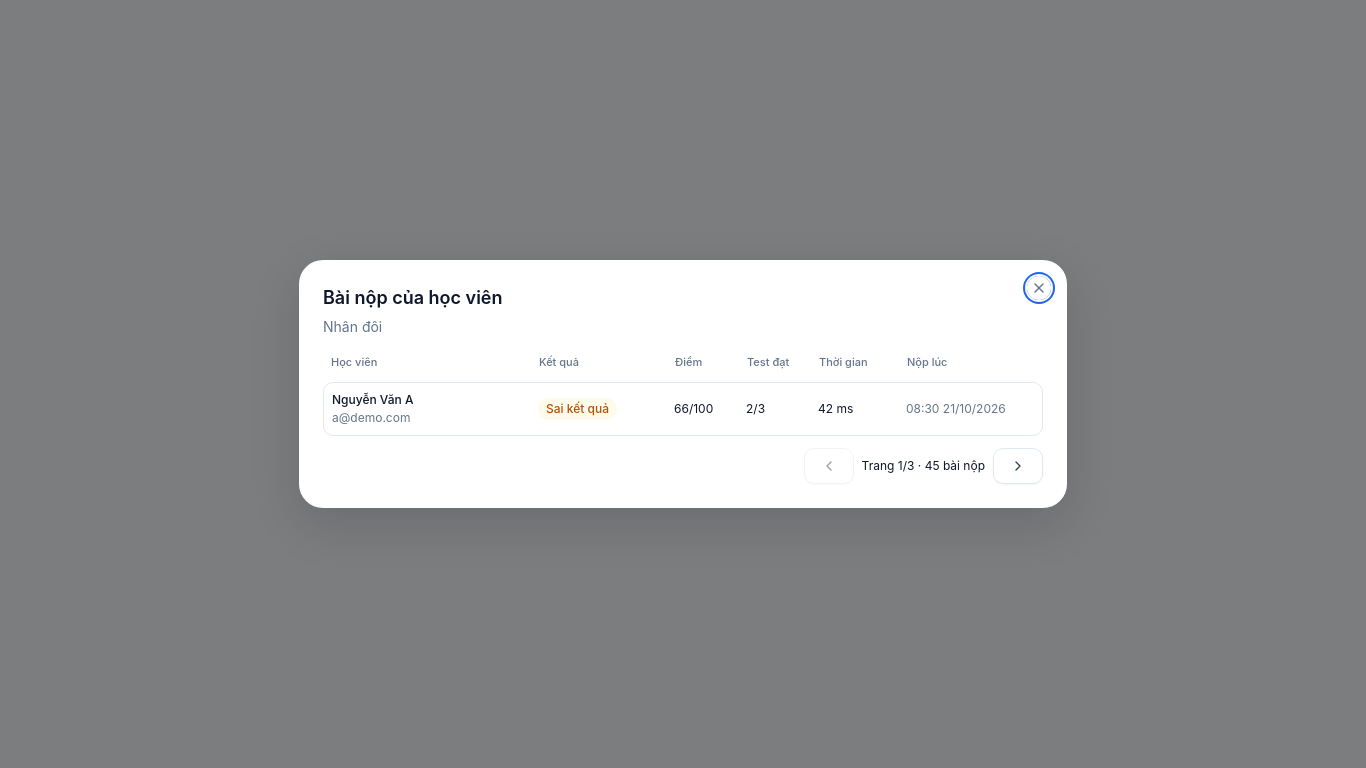
Test: ExerciseSubmissionsPanel › nhiều trang -> sang trang sau gọi page=2
Expected: the text "Trang 1/3 · 45 bài nộp" is shown, [862,457,985,475]
Click the button named "Trang sau".
click(1018, 466)  # box [993,448,1043,484]
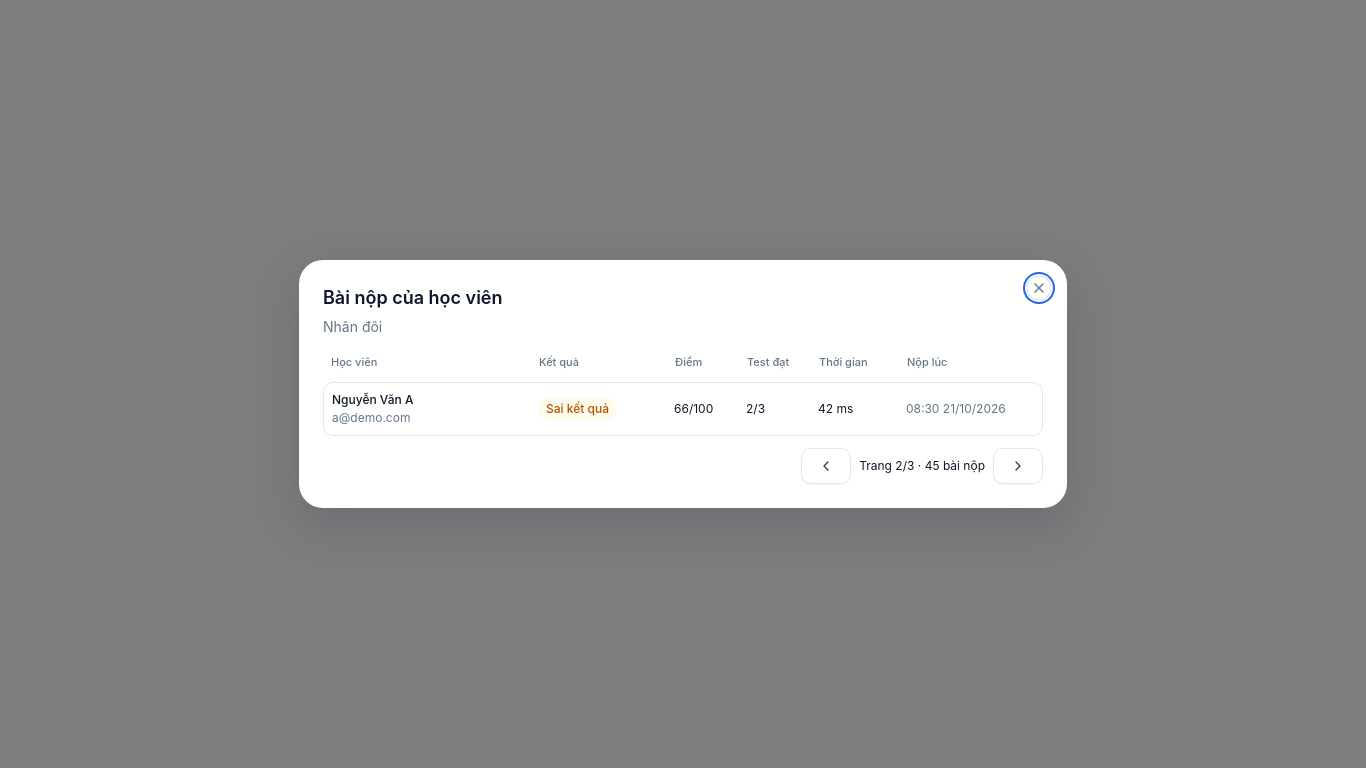
Now the text "Trang 2/3 · 45 bài nộp" is shown, box [859,457,985,475]
